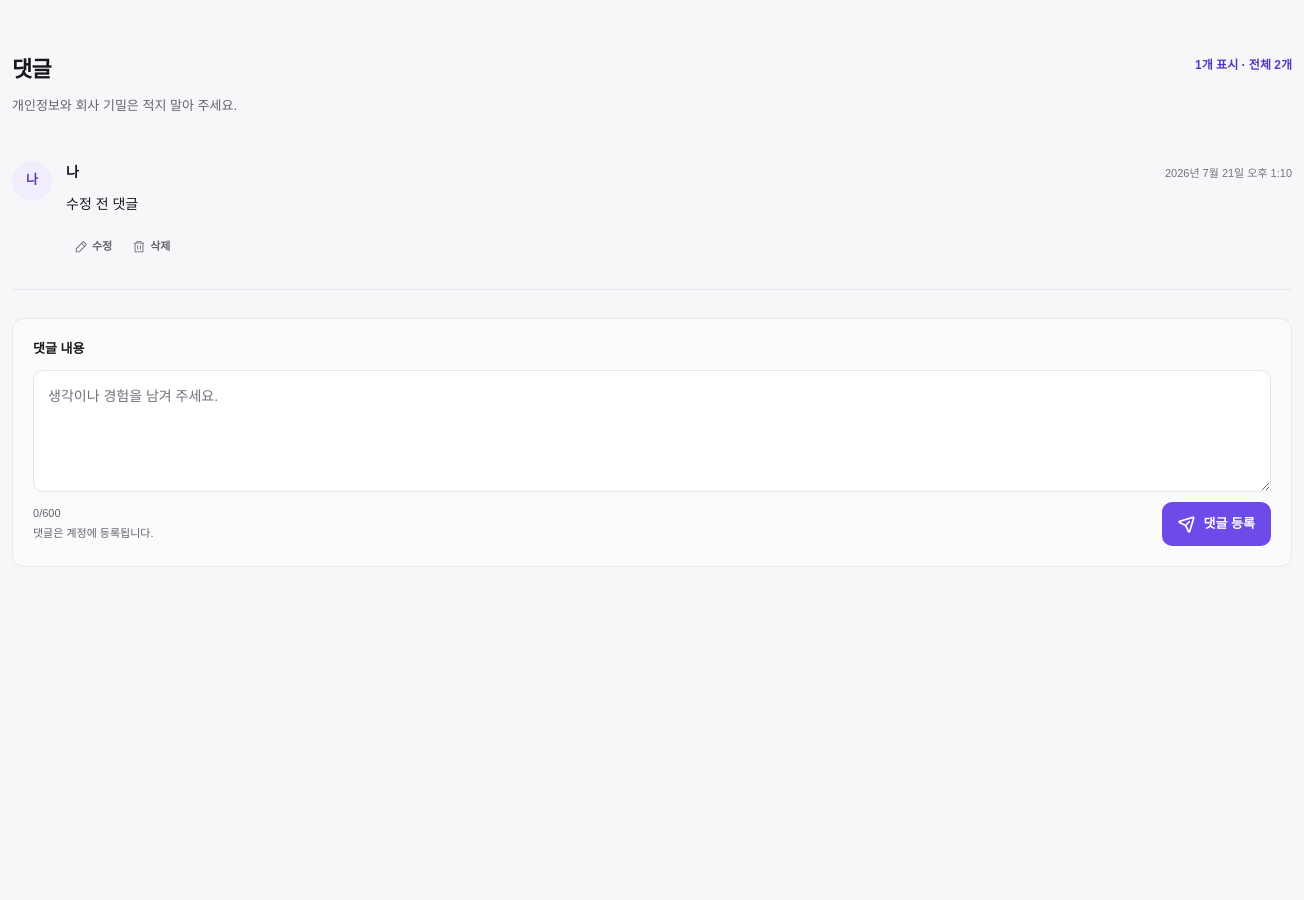
Test: ServerCommentList › uses the returned server record after a successful edit
Check: the text "수정 전 댓글" is shown, box [66,196,138,212]
Click the button with aria-label "수정 전 댓글 댓글 수정" at (93, 247), box [66,225,120,269]
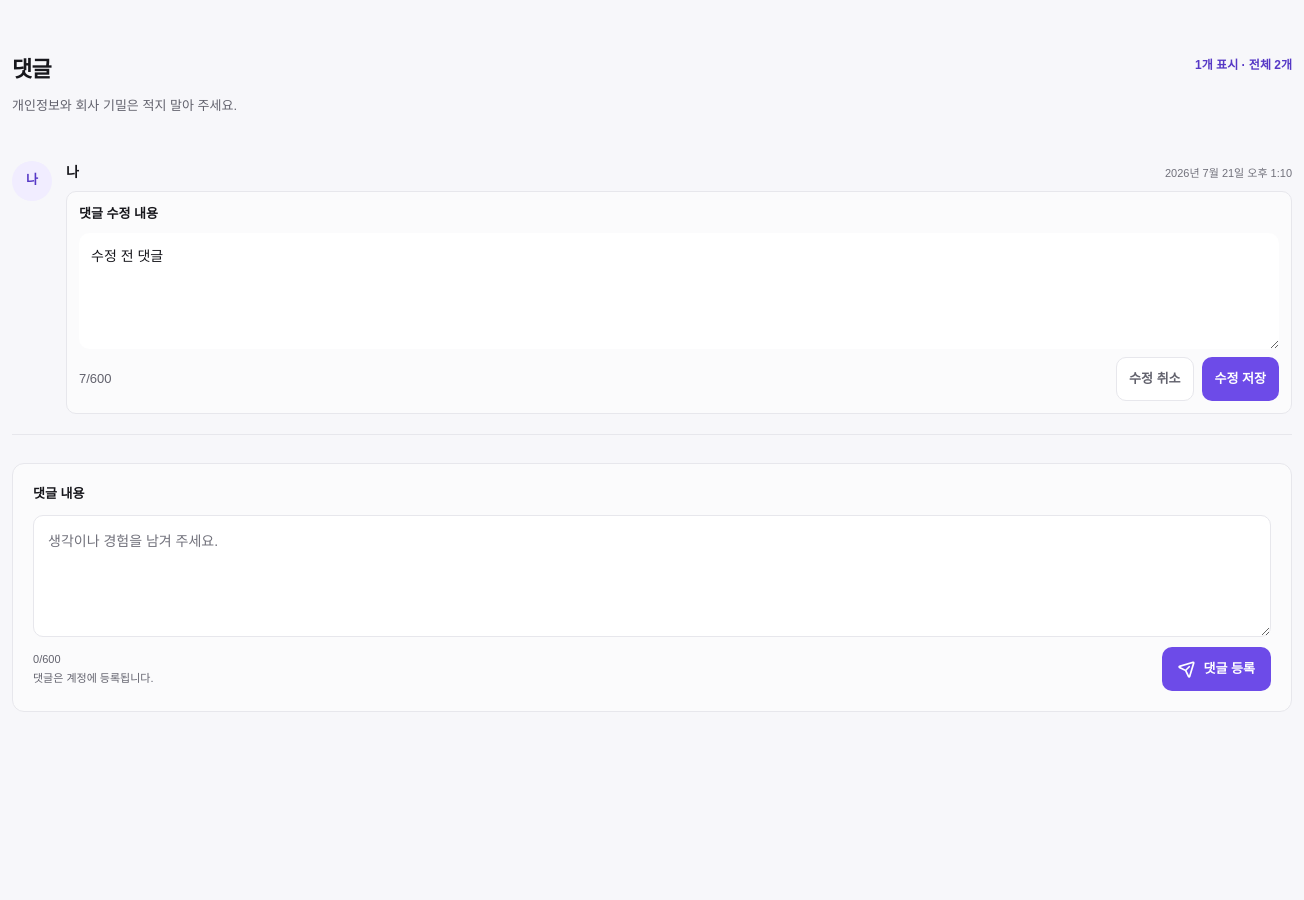
Replace the text in the text box labelled "댓글 수정 내용" with "  보낼 수정 댓글  " at (679, 291), box [79,233,1279,349]
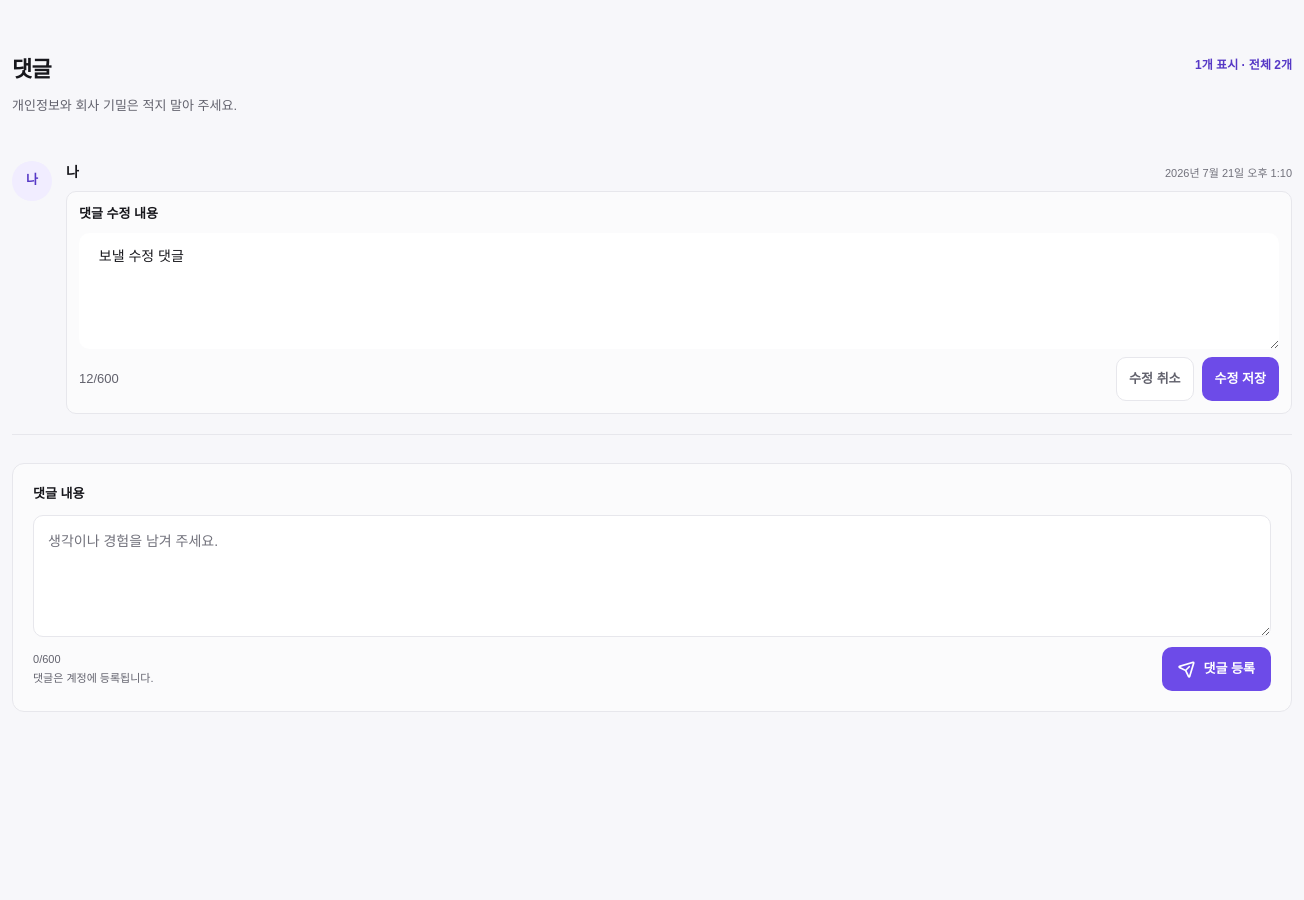
Click the button "수정 저장" at (1240, 379), box [1202,357,1279,401]
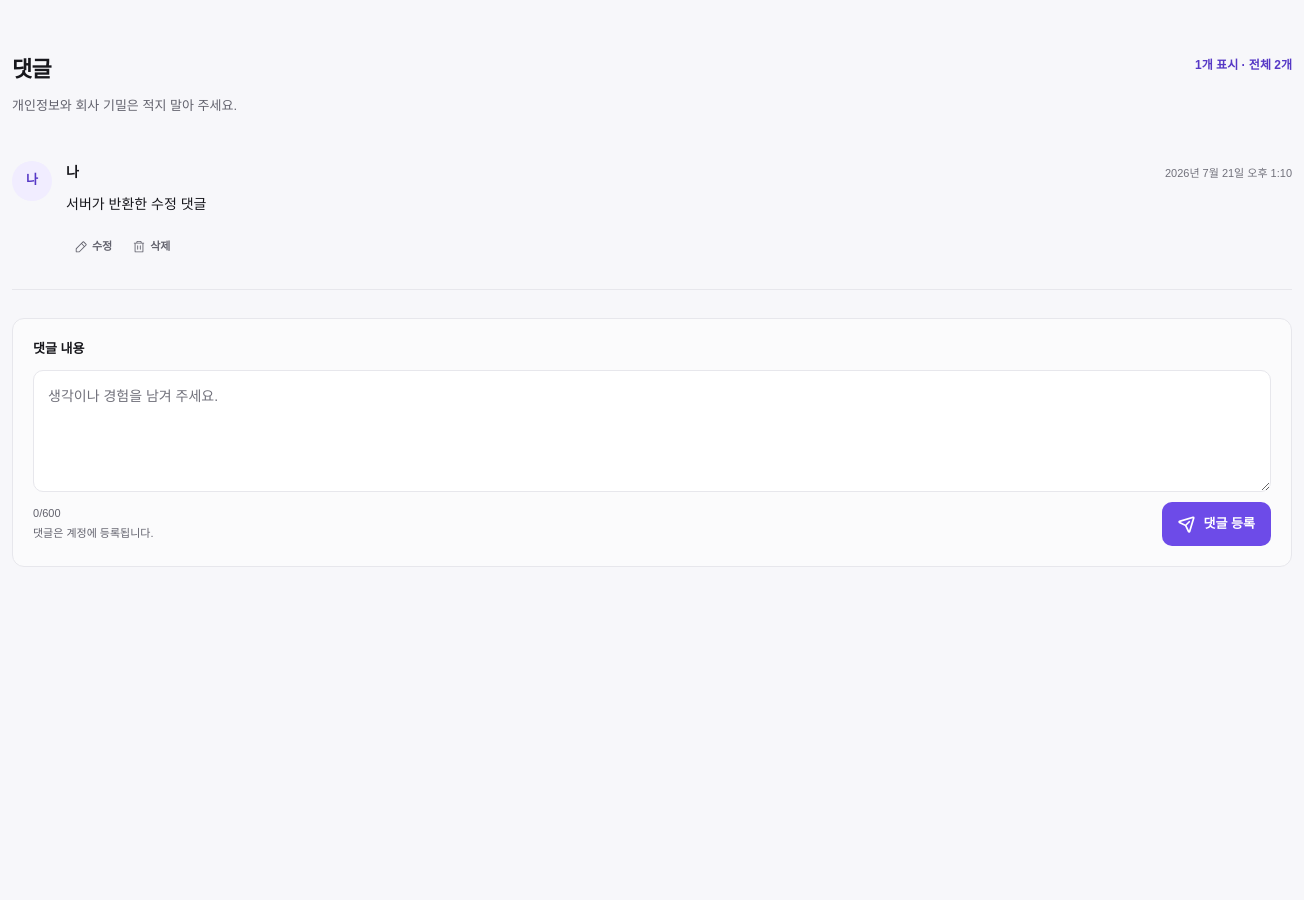
Check: the text "서버가 반환한 수정 댓글" is shown, box [66,196,206,212]
Check: the label "댓글 수정 내용" is gone
